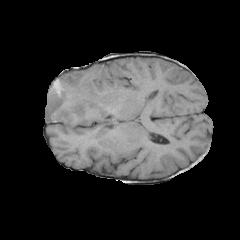glioma: (44, 71, 102, 127)
